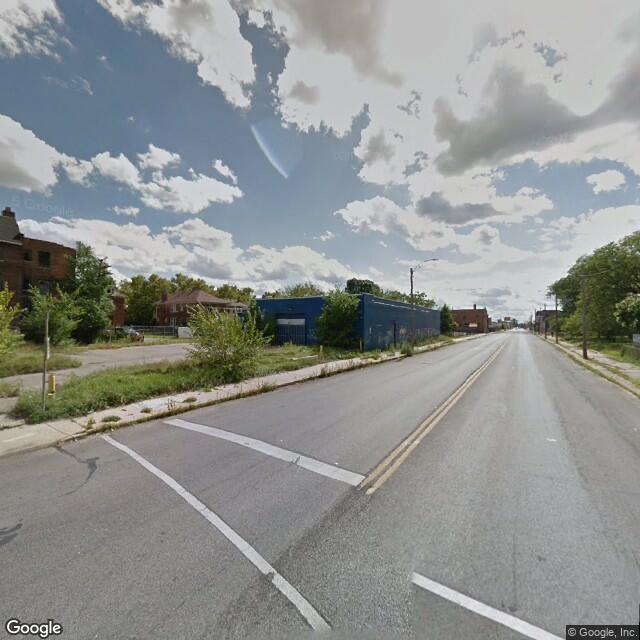litter: (109, 425, 113, 431), (258, 390, 263, 393), (74, 435, 76, 442)
